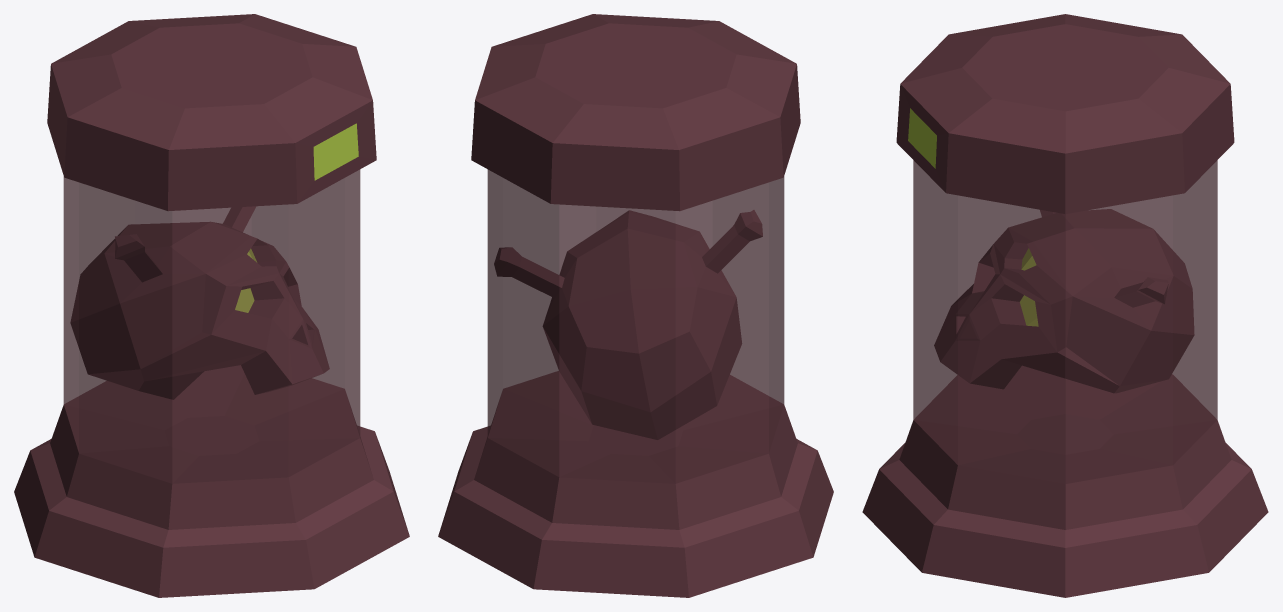
File: scifi-tube-specimen-small-skull.fbx
3 renders of one model, left to right at view 1: azimuth 30°, elevation 25°; view 2: azimuth 150°, elevation 25°; view 3: azimuth 270°, elevation 25°, orthographic.
Parts seen in each view (by area): view 1: scifi-tube-specimen-small-skull; view 2: scifi-tube-specimen-small-skull; view 3: scifi-tube-specimen-small-skull.
Boxes of the visible parts, left/top/right/bottom form: scifi-tube-specimen-small-skull: left=14, top=14, right=409, bottom=597; scifi-tube-specimen-small-skull: left=438, top=14, right=833, bottom=597; scifi-tube-specimen-small-skull: left=862, top=14, right=1268, bottom=597.
Bounding box in the file's own units: 0.4517 × 0.5452 × 0.4517.
